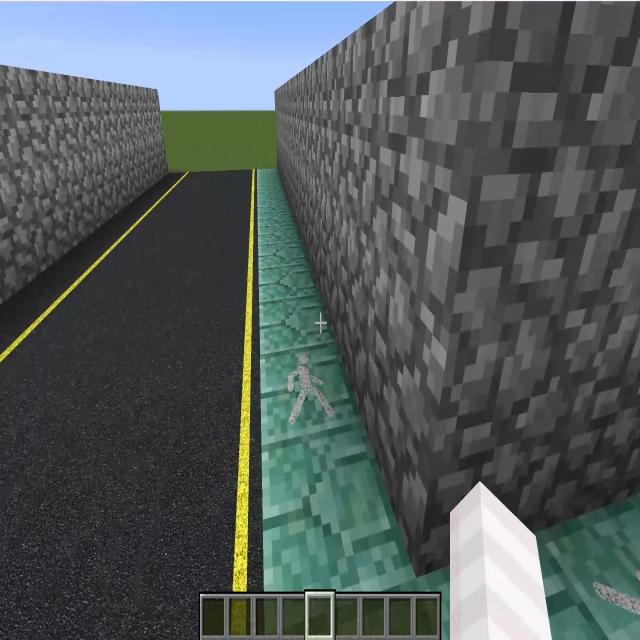road: (0, 169, 260, 639)
sidewalk: (258, 170, 449, 639), (538, 496, 640, 639)
